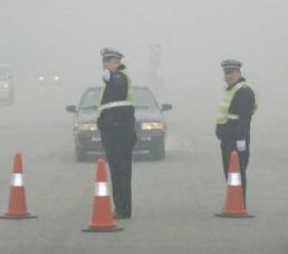person: (93, 43, 137, 222), (211, 45, 257, 212)
